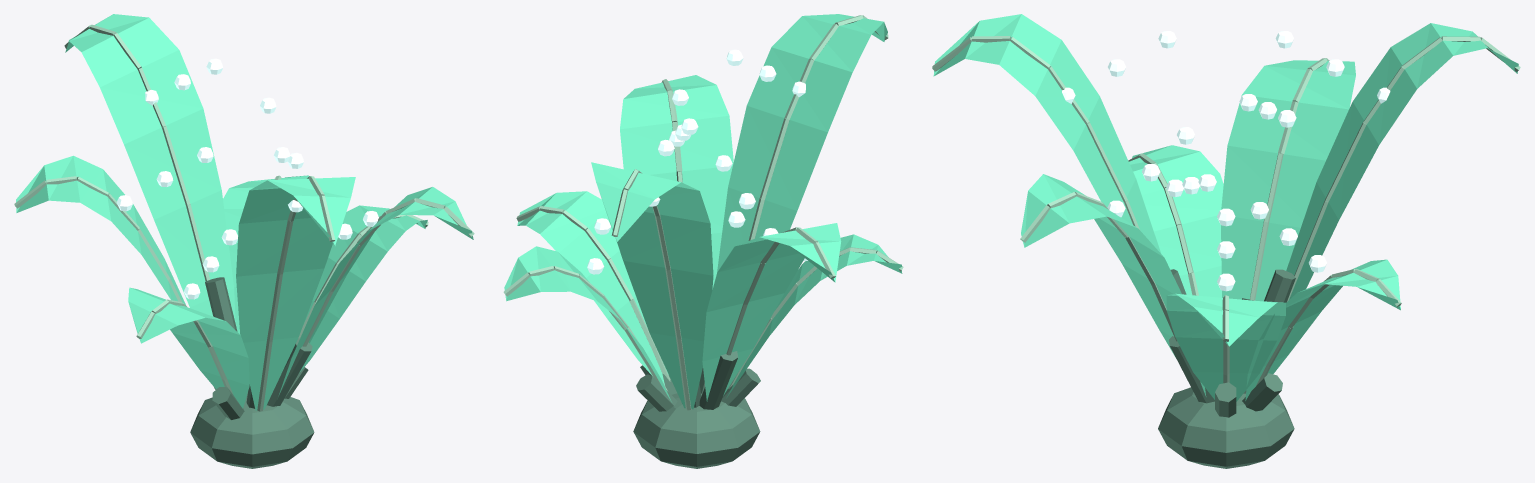
File: glowfern-growing.glb
3 renders of one model, left to right at view 1: azimuth 30°, elevation 25°; view 2: azimuth 150°, elevation 25°; view 3: azimuth 270°, elevation 25°, orthographic. The views are drawn at different scales.
Visible parts, largest first — view 1: glowfern.sway-pivot; view 2: glowfern.sway-pivot; view 3: glowfern.sway-pivot.
Boxes of the visible parts, box(x1,y1,x2,y2) form: glowfern.sway-pivot: box(14, 14, 474, 468); glowfern.sway-pivot: box(503, 14, 903, 468); glowfern.sway-pivot: box(932, 14, 1520, 468).
Bounding box in the file's own units: 0.7952 × 0.8056 × 1.02.
